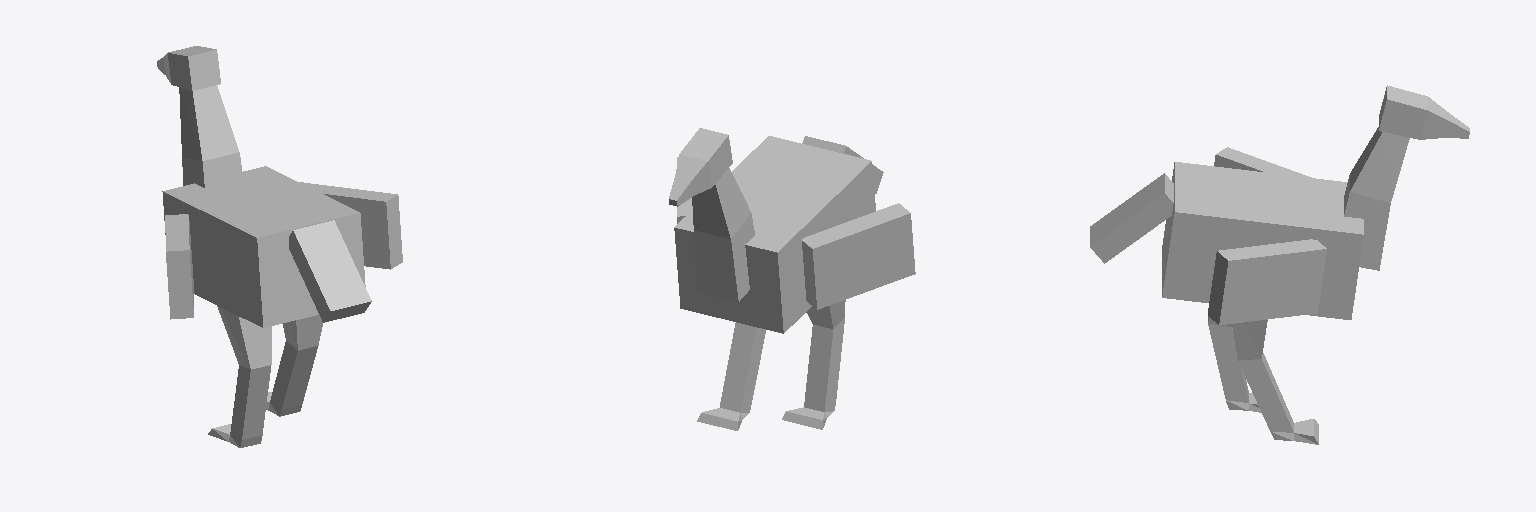
File: Ostrich_000106.obj
3 views of the same model, side by side, from view 1: azimuth 30°, elevation 25°; view 2: azimuth 150°, elevation 25°; view 3: azimuth 270°, elevation 25° (orthographic).
Visible parts, largest first — view 1: Cube_Cube.001; view 2: Cube_Cube.001; view 3: Cube_Cube.001.
Boxes of the visible parts, x1,y1,x2,y2 form: Cube_Cube.001: [157, 46, 402, 447]; Cube_Cube.001: [669, 128, 915, 430]; Cube_Cube.001: [1090, 85, 1469, 444].
Bounding box in the file's own units: 1.13 × 1.51 × 1.59.